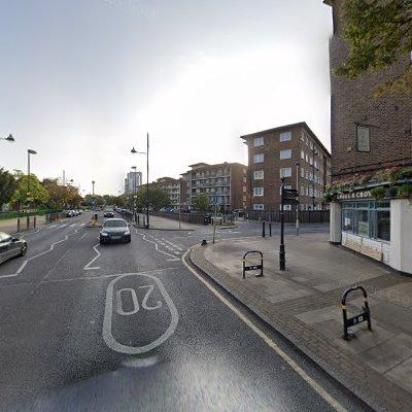moving-car: (0, 228, 28, 274), (97, 216, 130, 246), (104, 208, 114, 218)
stationary-car-onstreet: (64, 208, 76, 216)
